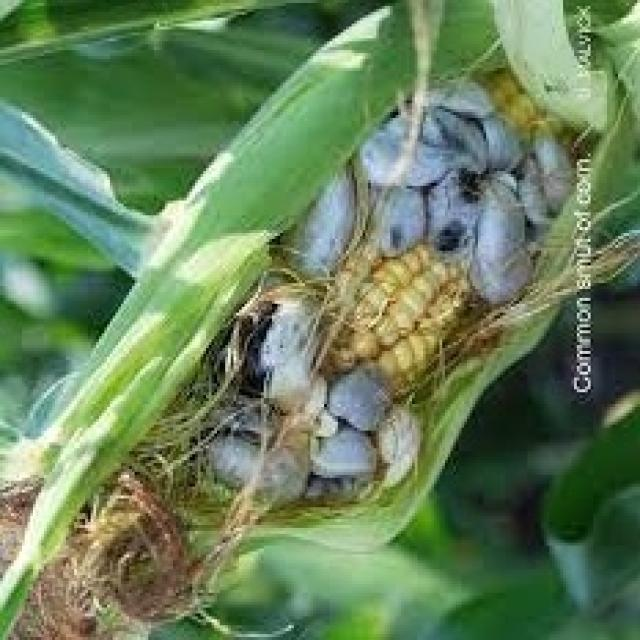Leaf_Scald: (118, 3, 616, 557)
